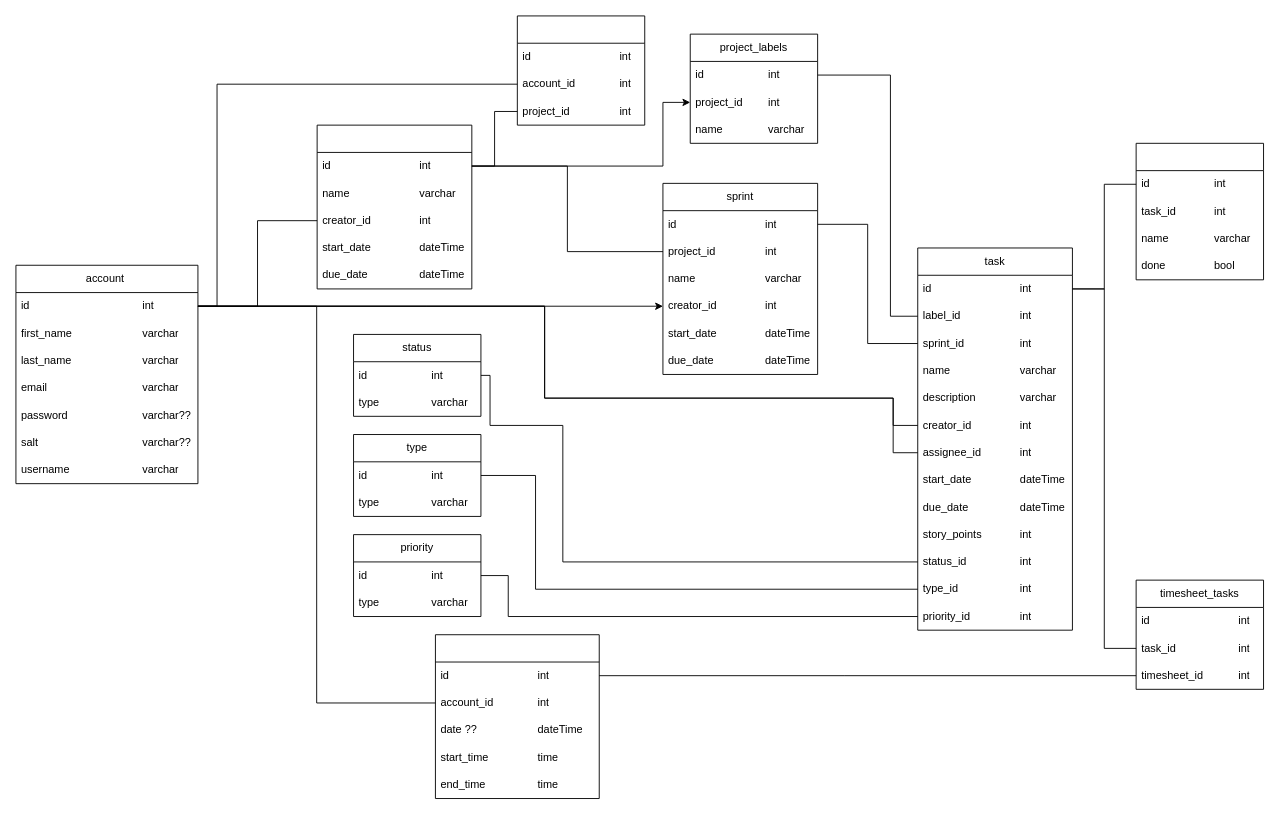
The diagram is 1279 pixels wide and 814 high, and some of its shapes have lost their labels. The box of each missing label's shape, as (x1, y1, x2, y2) in pixels:
key_tasks: (1135, 142, 1264, 280)
project: (316, 124, 472, 289)
project_assignees: (516, 15, 645, 125)
timesheet: (435, 634, 599, 799)
